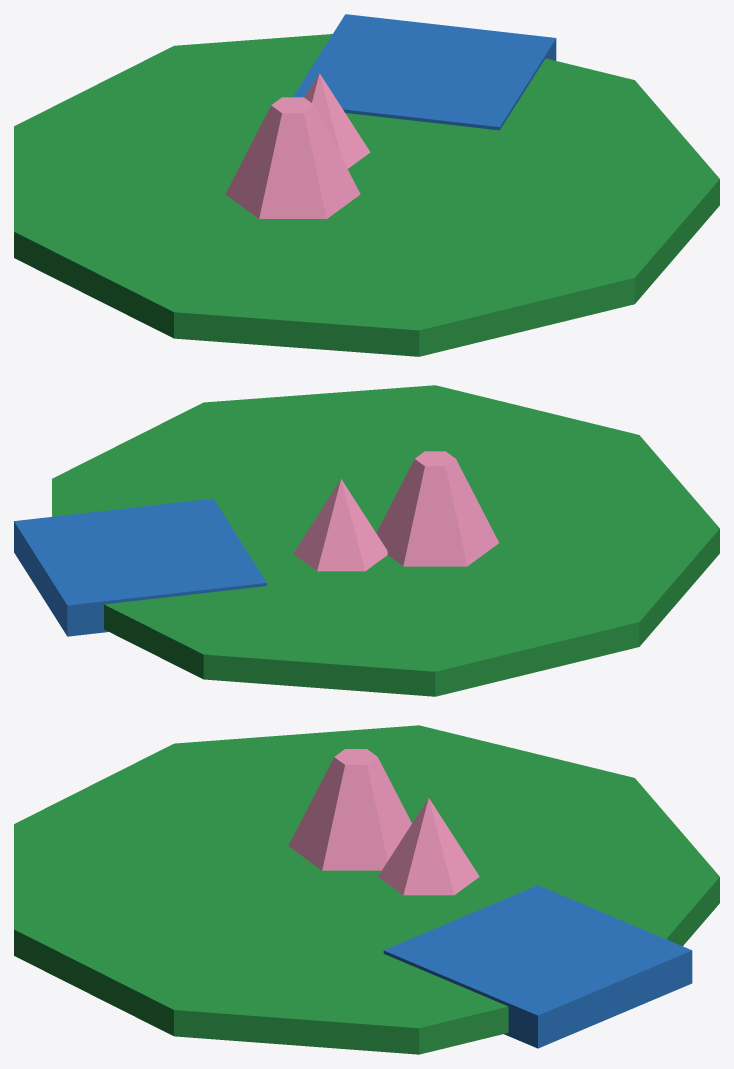
File: lily_pad.glb
3 views of the same model, one above another, from view 1: azimuth 30°, elevation 25°; view 2: azimuth 150°, elevation 25°; view 3: azimuth 270°, elevation 25° (orthographic). The views are drawn at different scales.
Parts seen in each view (by area): view 1: lily_pad; view 2: lily_pad; view 3: lily_pad.
Part boxes in pixels (x1=…): lily_pad: x1=14, y1=14, x2=719, y2=356; lily_pad: x1=14, y1=385, x2=719, y2=696; lily_pad: x1=14, y1=725, x2=719, y2=1054.
Size of the model in its own units: 0.9848 by 0.18 by 0.9698.
